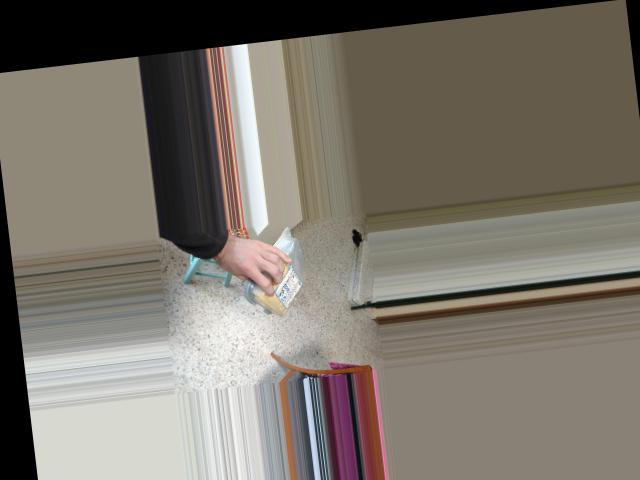cheese: (253, 225, 307, 328)
